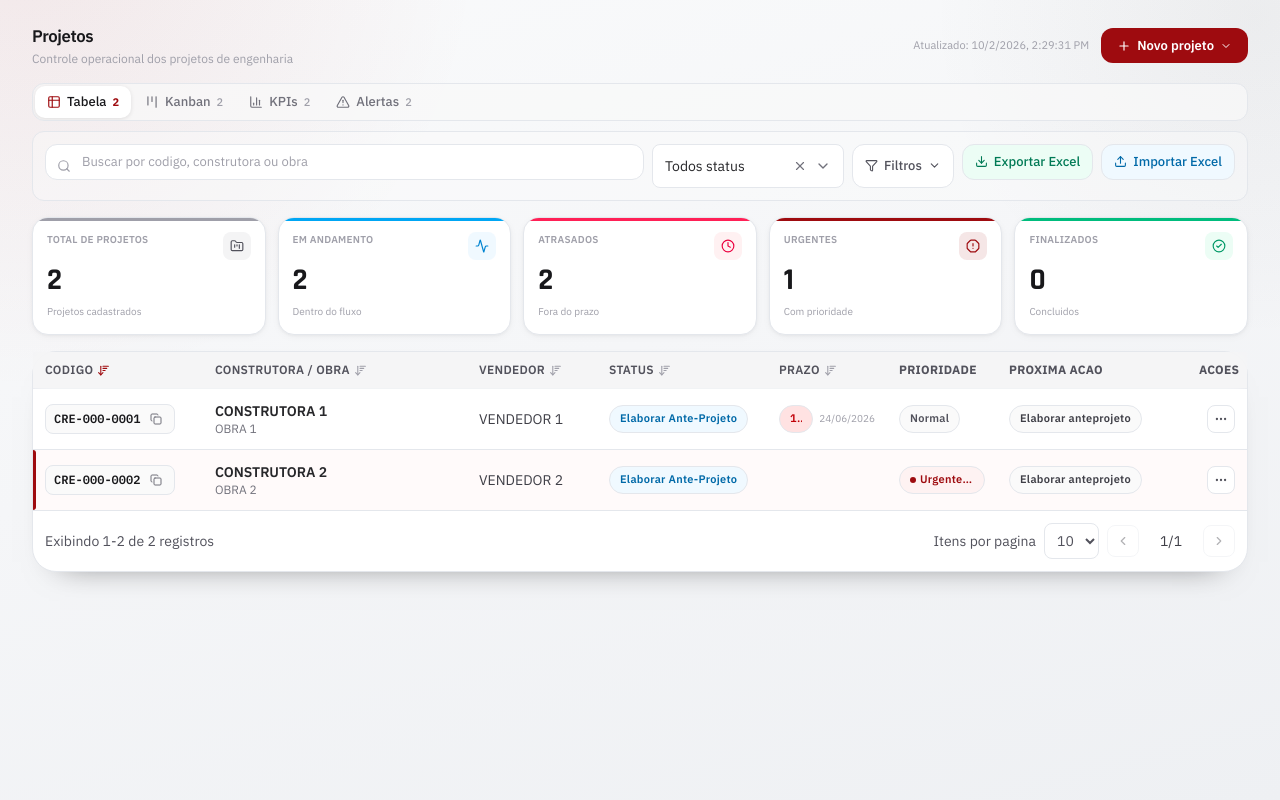
Scenario: Marcar como urgente — só o pedido de urgência sai do navegador › sucesso: sem observação/e-mail pelo cliente
Click the button named "Abrir acoes do projeto" in the row of "CRE-000-0001" at (1221,419), box x1=1207 y1=405 x2=1235 y2=433
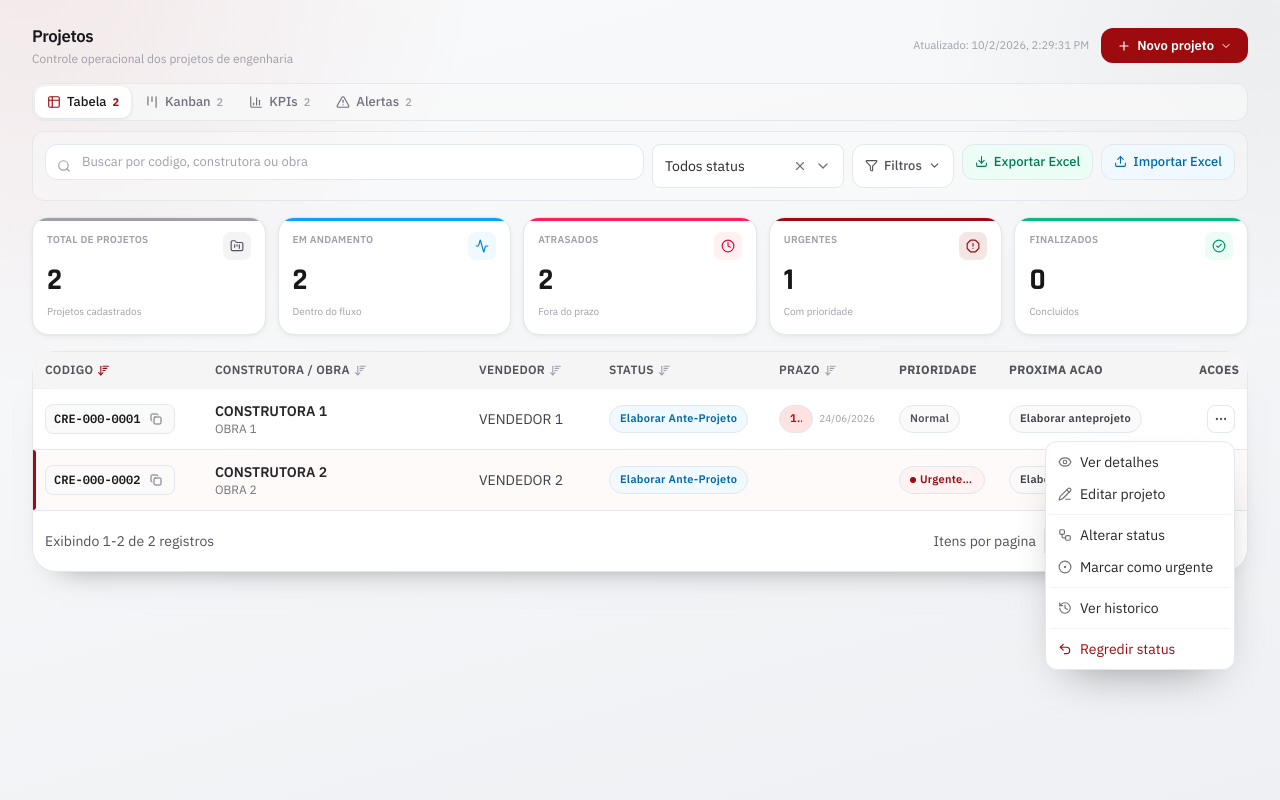
Click the menu item "Marcar como urgente" at (1136,567), box x1=1058 y1=558 x2=1213 y2=576
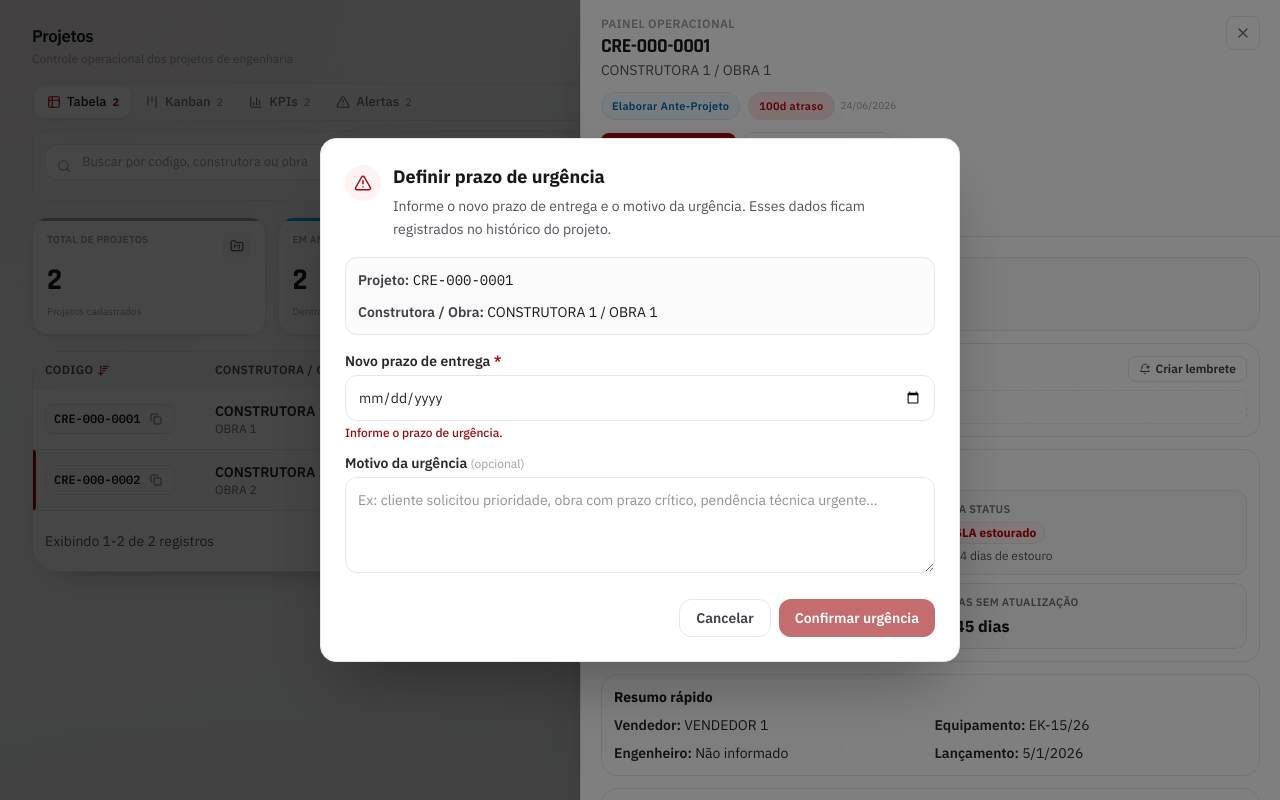
Type "2099-01-10" into the date field with id "urgency-deadline" at (640,398), box x1=345 y1=375 x2=935 y2=421
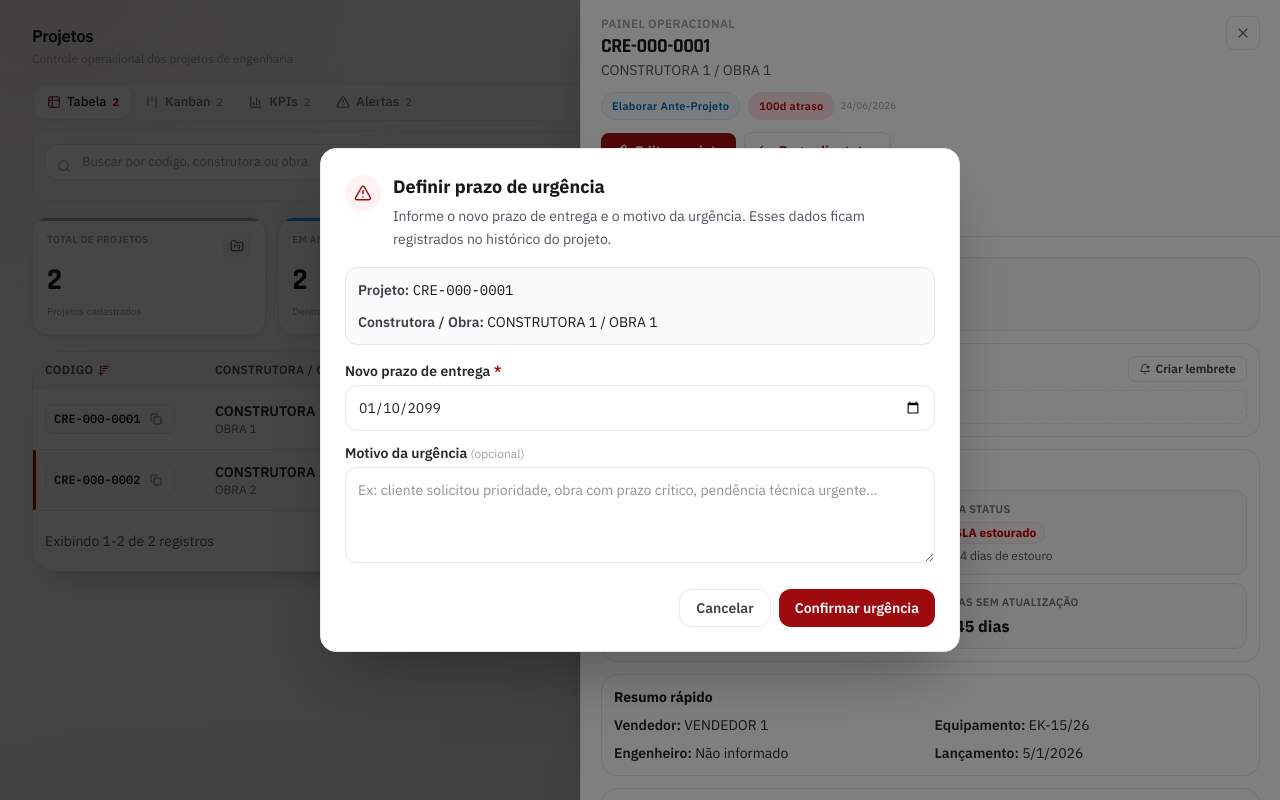
Type "Cliente pediu prioridade" into the text box with id "urgency-reason" at (640,515), box x1=345 y1=467 x2=935 y2=563
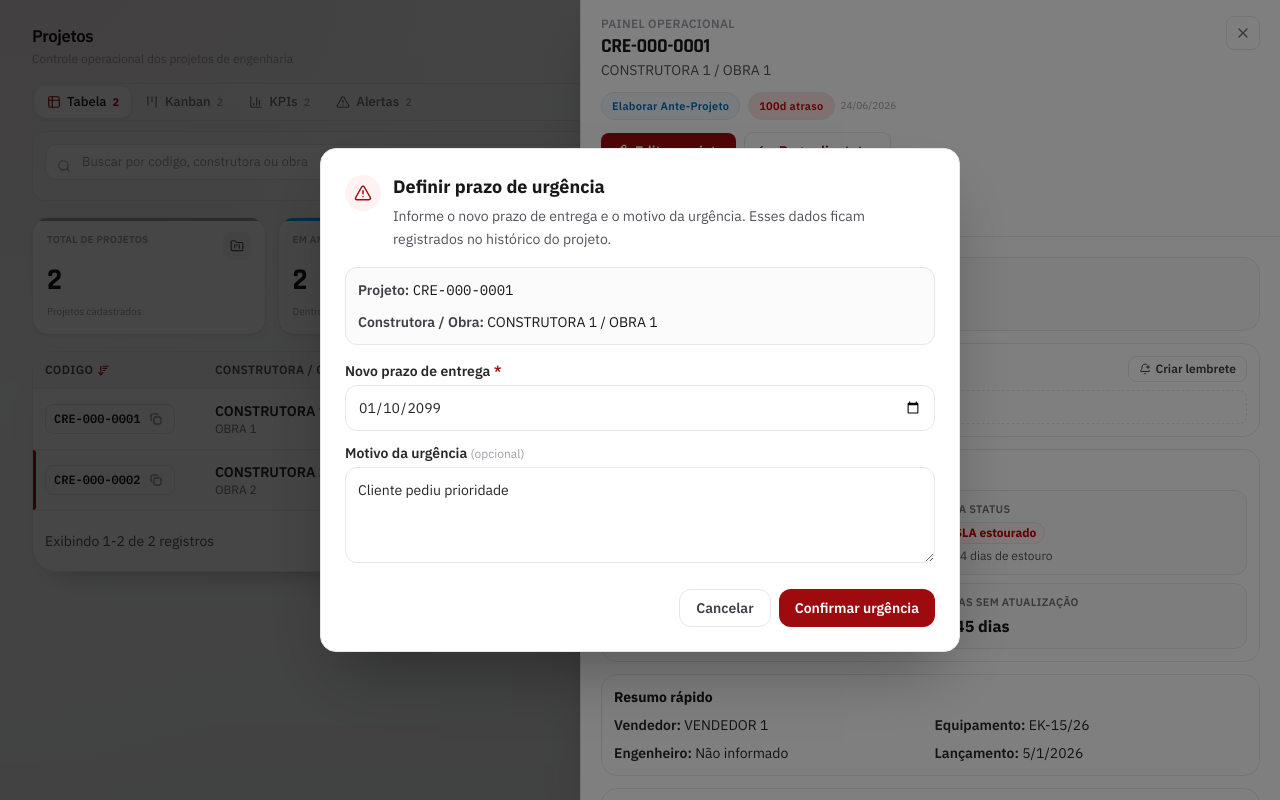
Click the button "Confirmar urgência" at (857,608), box x1=779 y1=589 x2=935 y2=627
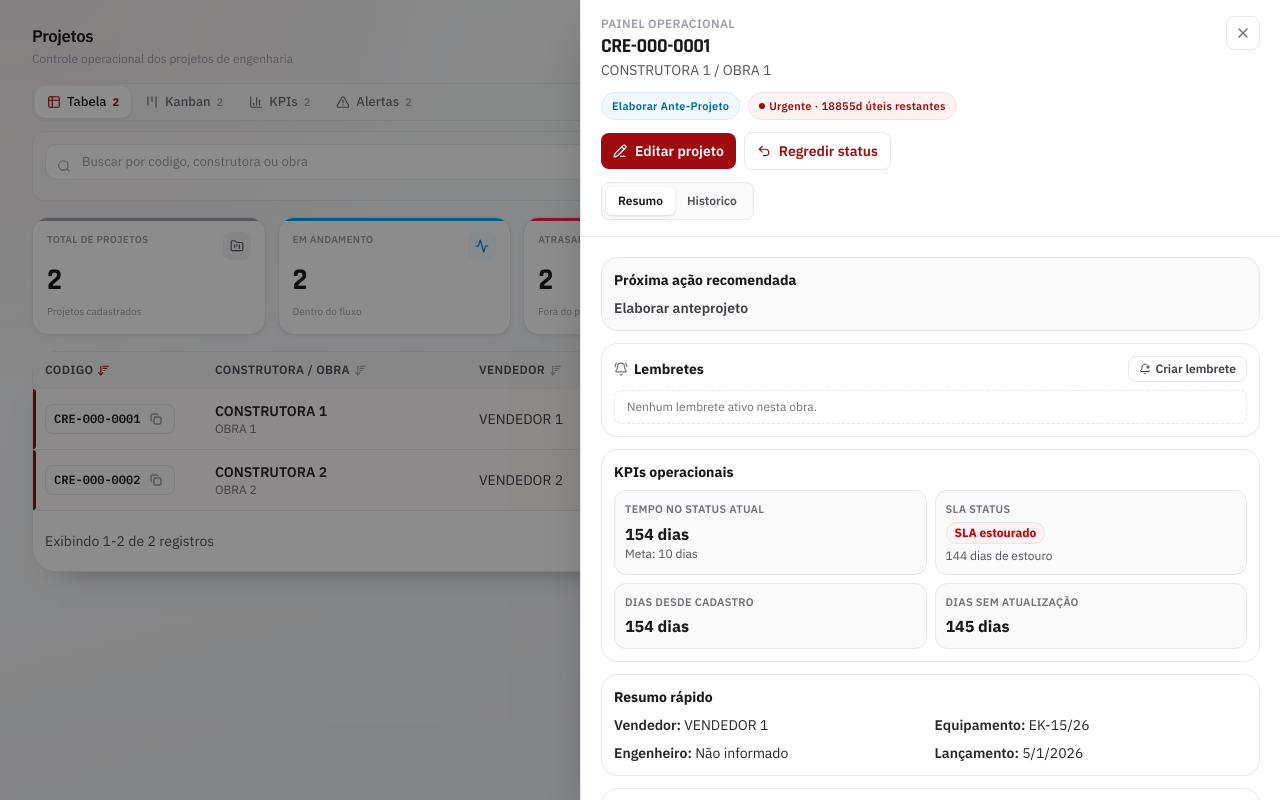
Now the text "Projeto marcado como urgente." is shown, box x1=1035 y1=748 x2=1264 y2=784
